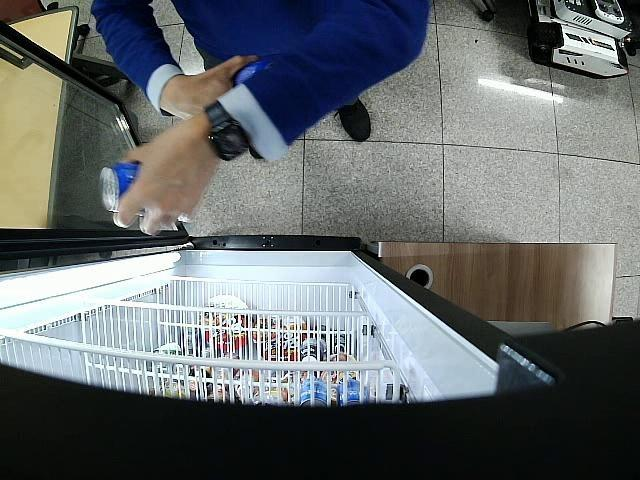13_pocariSweat: (100, 162, 141, 212), (233, 59, 276, 84)
